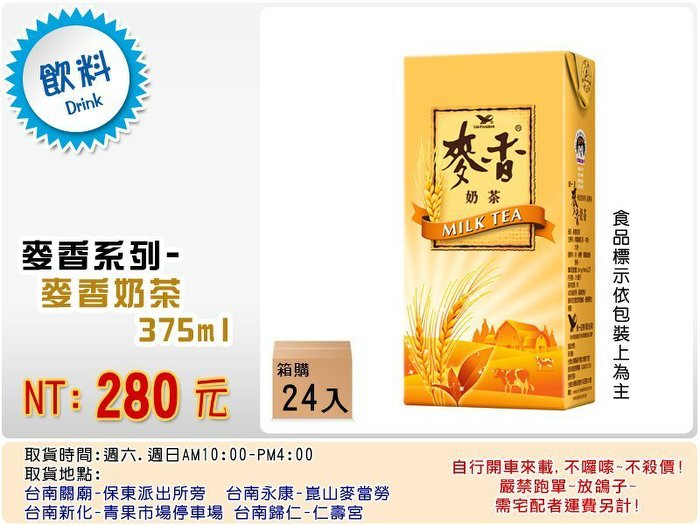milk tea: (402, 52, 597, 411)
